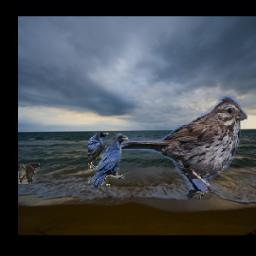Crow: (89, 133, 130, 189)
Sparrow: (115, 93, 247, 199)
Swallow: (19, 164, 41, 185)
